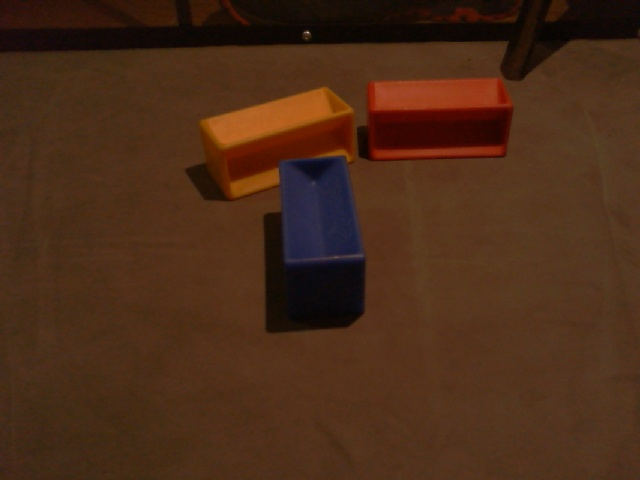BlueSample: (275, 155, 367, 321)
RedSample: (365, 76, 513, 161)
YellowSample: (199, 82, 357, 201)
